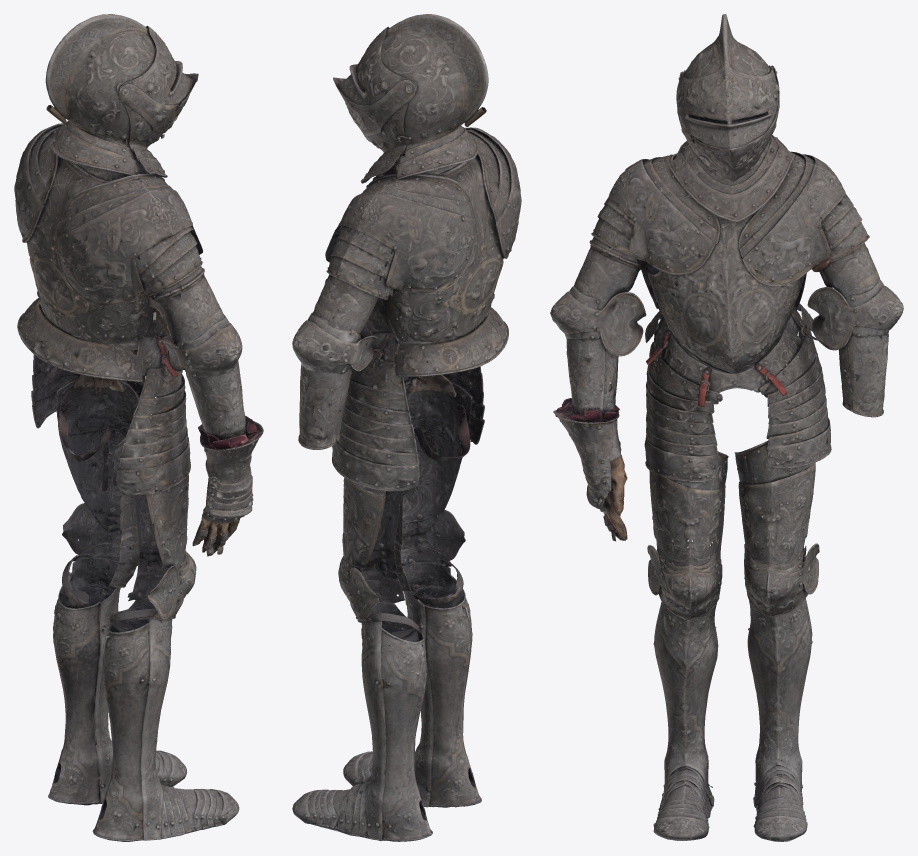
The model's file is king-erik-xiv-balanced.glb.
3 renders of one model, left to right at view 1: azimuth 30°, elevation 25°; view 2: azimuth 150°, elevation 25°; view 3: azimuth 270°, elevation 25°, orthographic. The views are drawn at different scales.
Visible parts, largest first — view 1: Object_4, Object_2, Object_3, Object_8, Object_10, Object_6, Object_5, Object_7, Object_11, Object_9, Object_12, Object_13 (+1 smaller); view 2: Object_3, Object_4, Object_2, Object_5, Object_7, Object_6, Object_11, Object_8, Object_10, Object_12, Object_9, Object_14 (+1 smaller); view 3: Object_4, Object_2, Object_7, Object_6, Object_3, Object_8, Object_5, Object_9, Object_12, Object_13, Object_11, Object_10 (+1 smaller).
Boxes of the visible parts, left/top/right/bottom form: Object_4: left=14, top=26, right=261, bottom=837; Object_2: left=39, top=14, right=239, bottom=841; Object_3: left=27, top=75, right=239, bottom=839; Object_8: left=38, top=70, right=253, bottom=833; Object_10: left=17, top=106, right=253, bottom=805; Object_6: left=20, top=25, right=262, bottom=801; Object_5: left=16, top=51, right=242, bottom=785; Object_7: left=15, top=134, right=259, bottom=612; Object_11: left=31, top=112, right=230, bottom=614; Object_9: left=15, top=121, right=190, bottom=841; Object_12: left=17, top=226, right=240, bottom=633; Object_13: left=14, top=145, right=263, bottom=607; Object_3: left=296, top=33, right=518, bottom=839; Object_4: left=333, top=30, right=519, bottom=841; Object_2: left=293, top=14, right=514, bottom=841; Object_5: left=292, top=36, right=484, bottom=811; Object_7: left=292, top=114, right=499, bottom=652; Object_6: left=298, top=26, right=521, bottom=841; Object_11: left=325, top=218, right=506, bottom=577; Object_8: left=297, top=70, right=517, bottom=785; Object_10: left=345, top=134, right=509, bottom=818; Object_12: left=332, top=301, right=465, bottom=621; Object_9: left=293, top=125, right=520, bottom=831; Object_14: left=338, top=107, right=514, bottom=806; Object_4: left=556, top=32, right=851, bottom=805; Object_2: left=609, top=14, right=812, bottom=841; Object_7: left=555, top=141, right=903, bottom=617; Object_6: left=577, top=64, right=888, bottom=822; Object_3: left=604, top=38, right=900, bottom=790; Object_8: left=566, top=105, right=898, bottom=840; Object_5: left=550, top=68, right=843, bottom=841; Object_9: left=646, top=143, right=883, bottom=839; Object_12: left=588, top=212, right=831, bottom=611; Object_13: left=553, top=160, right=847, bottom=627; Object_11: left=587, top=143, right=861, bottom=608; Object_10: left=568, top=141, right=815, bottom=811.
Bounding box in the file's own units: 0.3733 × 1.67 × 0.693.
1 material, 1 textured.
